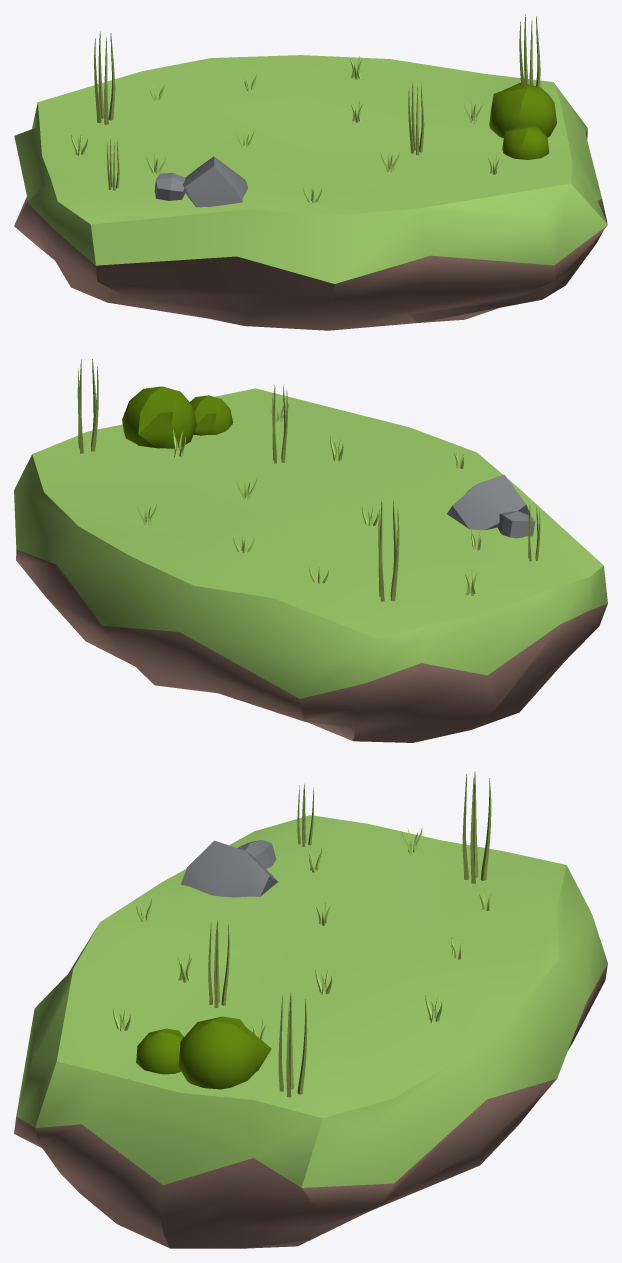
The model's file is small_island_spring_4.fbx.
3 renders of one model, top to bottom at view 1: azimuth 30°, elevation 25°; view 2: azimuth 150°, elevation 25°; view 3: azimuth 270°, elevation 25°, orthographic. The views are drawn at different scales.
Parts seen in each view (by area): view 1: Island_Spring_4.001; view 2: Island_Spring_4.001; view 3: Island_Spring_4.001.
Boxes of the visible parts, x1,y1,x2,y2 form: Island_Spring_4.001: (14, 14, 607, 330); Island_Spring_4.001: (14, 359, 607, 742); Island_Spring_4.001: (14, 771, 607, 1248).
Bounding box in the file's own units: 374 × 181 × 301.
